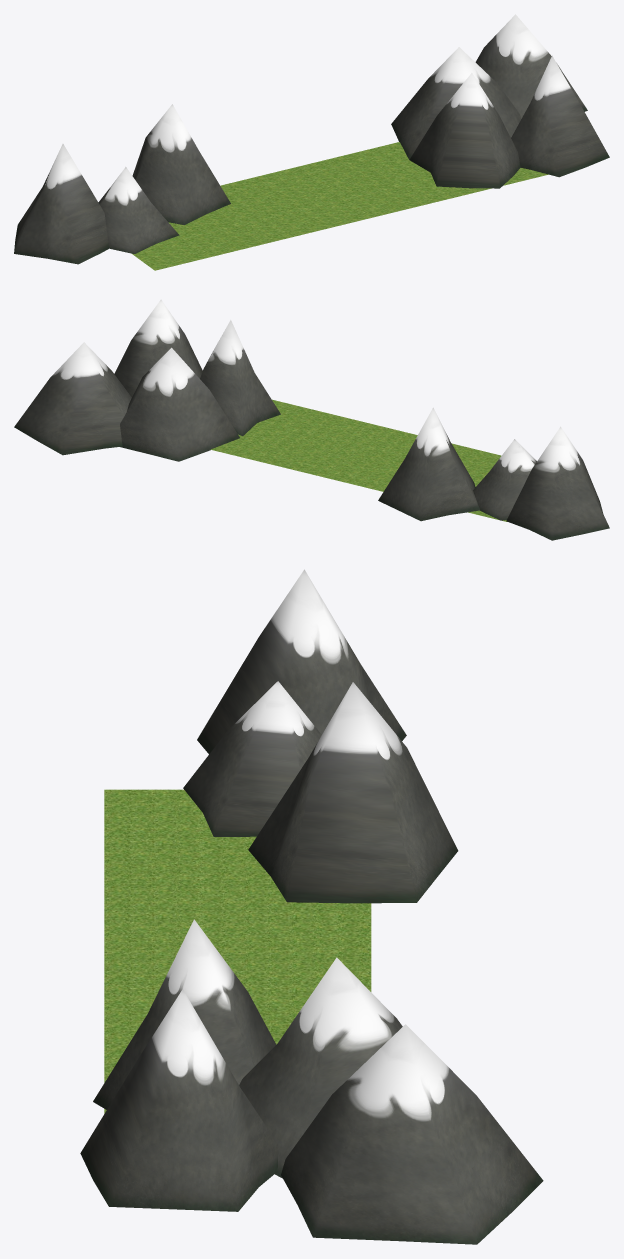
File: terrain_7.glb
3 views of the same model, one above another, from view 1: azimuth 30°, elevation 25°; view 2: azimuth 150°, elevation 25°; view 3: azimuth 270°, elevation 25° (orthographic). The views are drawn at different scales.
Visible parts, largest first — view 1: Circle.047; view 2: Circle.047; view 3: Circle.047.
Boxes of the visible parts, bbox=[...] form: Circle.047: bbox=[14, 14, 609, 270]; Circle.047: bbox=[14, 299, 609, 540]; Circle.047: bbox=[80, 569, 543, 1244].
Bounding box in the file's own units: 191 × 30.73 × 69.43.
5 materials, 5 textured.
